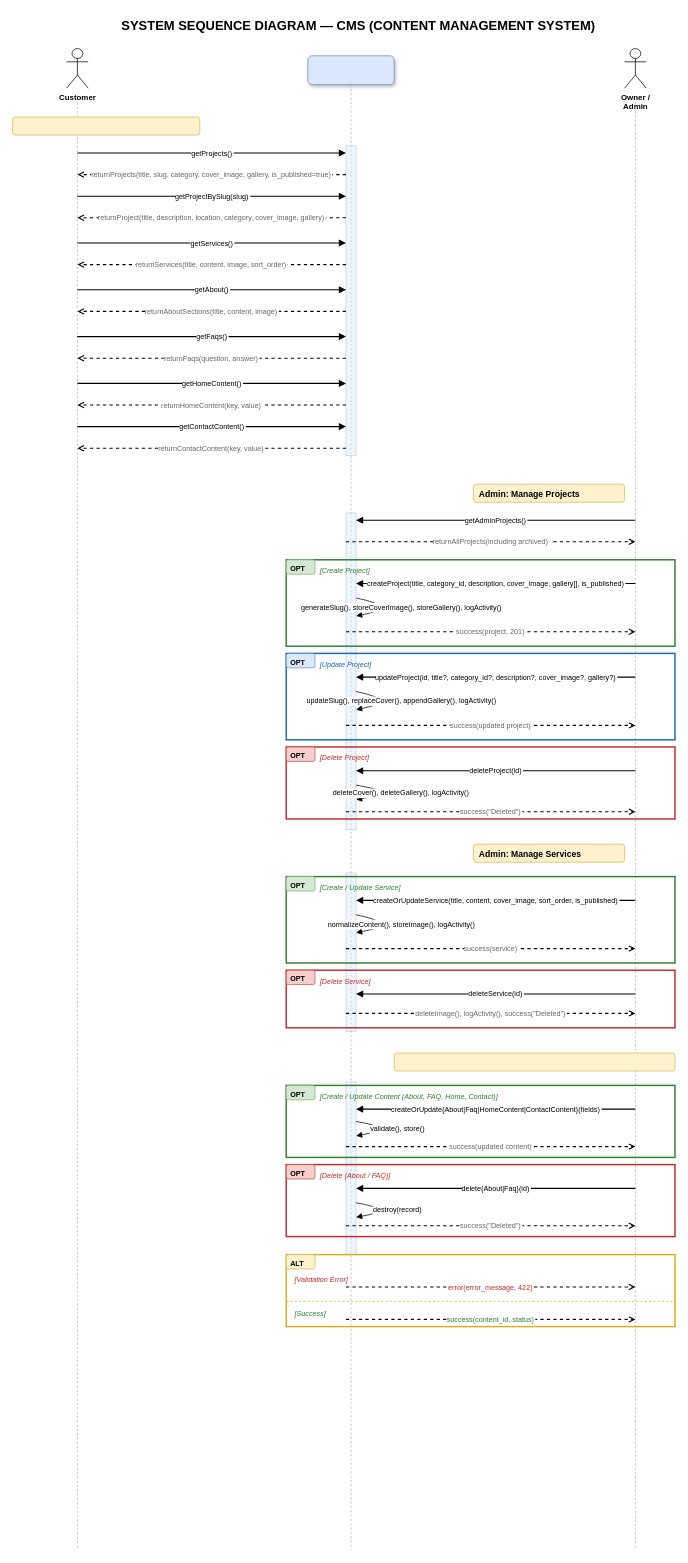
Image size: 688x1563. Some labels were removed from this diagram. Each missing label, with the centre of its shape:
:System: the point at 351,71
Admin: Manage About, FAQ, Home & Contact Content: the point at 534,1061
Customer: View Public Content: the point at 106,125
